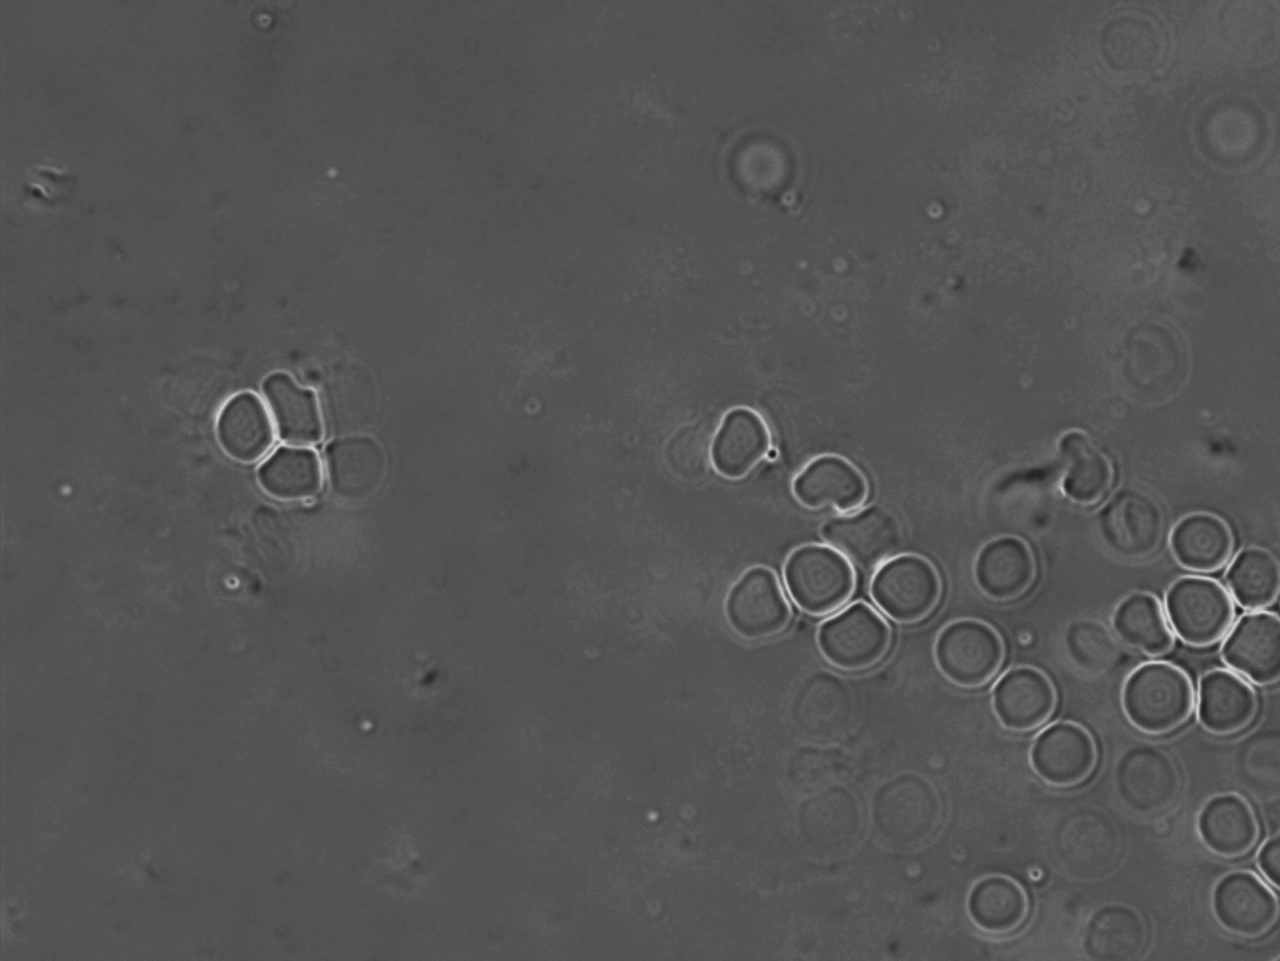depth:0: (1111, 651, 1208, 748), (776, 436, 877, 522), (869, 531, 956, 628), (921, 607, 1017, 693), (773, 531, 865, 621), (250, 365, 337, 457), (1023, 706, 1109, 797), (717, 555, 801, 650), (1153, 567, 1243, 653), (813, 591, 899, 678), (696, 399, 786, 483), (200, 379, 292, 461), (1113, 737, 1200, 823), (1182, 655, 1272, 737), (252, 437, 335, 523), (1161, 498, 1244, 582), (958, 865, 1048, 942), (967, 526, 1046, 613), (981, 660, 1065, 738), (1098, 582, 1186, 656), (1198, 866, 1280, 945), (1191, 786, 1267, 869), (1210, 607, 1280, 692), (1209, 526, 1280, 608)
